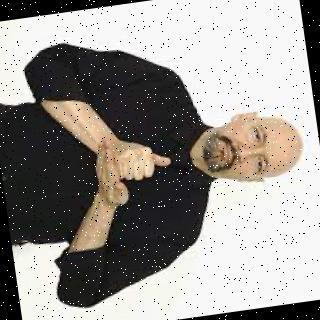Help: (78, 128, 184, 217)
